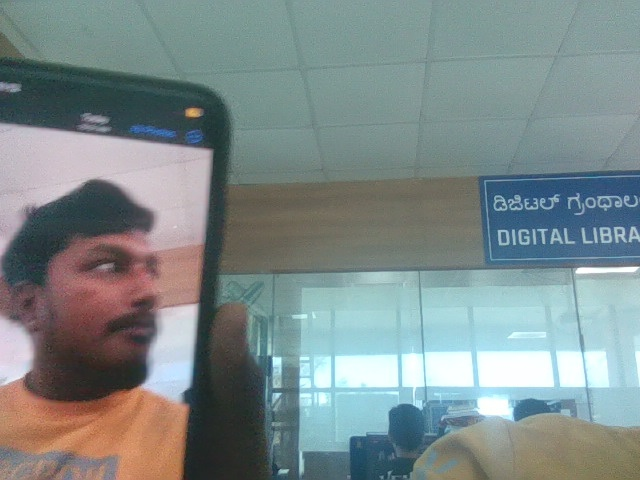fake: (25, 143, 199, 389)
